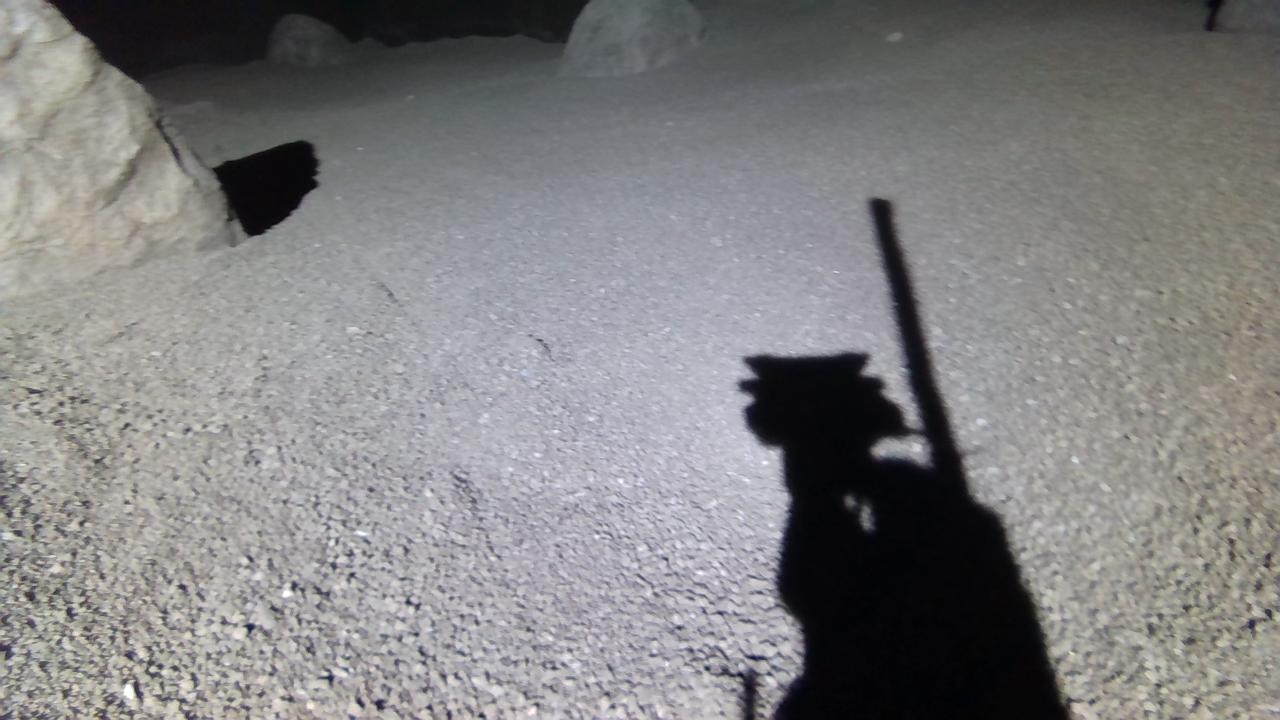rock: (0, 0, 243, 297), (559, 0, 705, 75), (267, 12, 352, 65), (1216, 0, 1280, 33)
